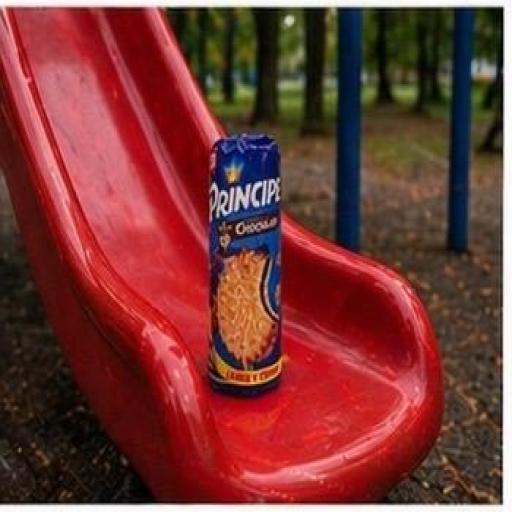prince: (134, 81, 381, 460)
